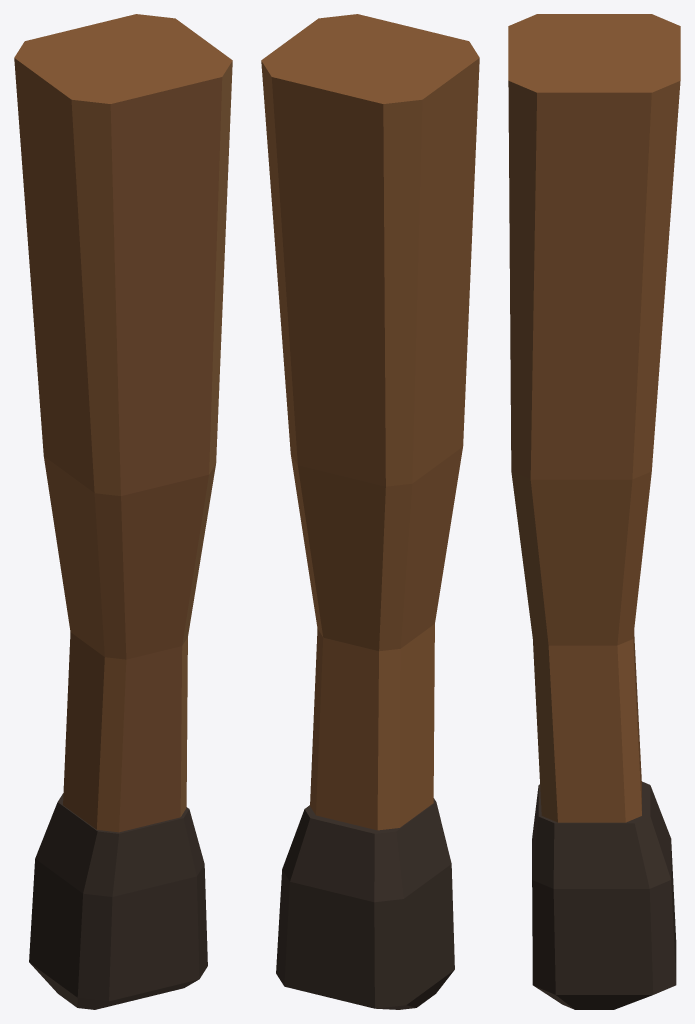
The model's file is leg.glb.
3 renders of one model, left to right at view 1: azimuth 30°, elevation 25°; view 2: azimuth 150°, elevation 25°; view 3: azimuth 270°, elevation 25°, orthographic.
Visible parts, largest first — view 1: leg; view 2: leg; view 3: leg.
Boxes of the visible parts, <box> form: leg: <box>14,14,232,1009</box>; leg: <box>261,14,479,1009</box>; leg: <box>508,14,680,1009</box>.
Size of the model in its own units: 0.26 by 1.43 by 0.24.
